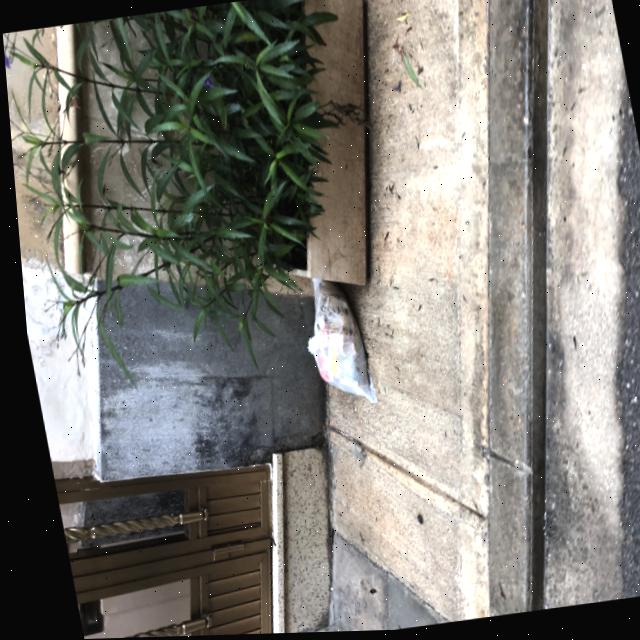Organic Waste -White Bag-: (291, 273, 376, 415)
